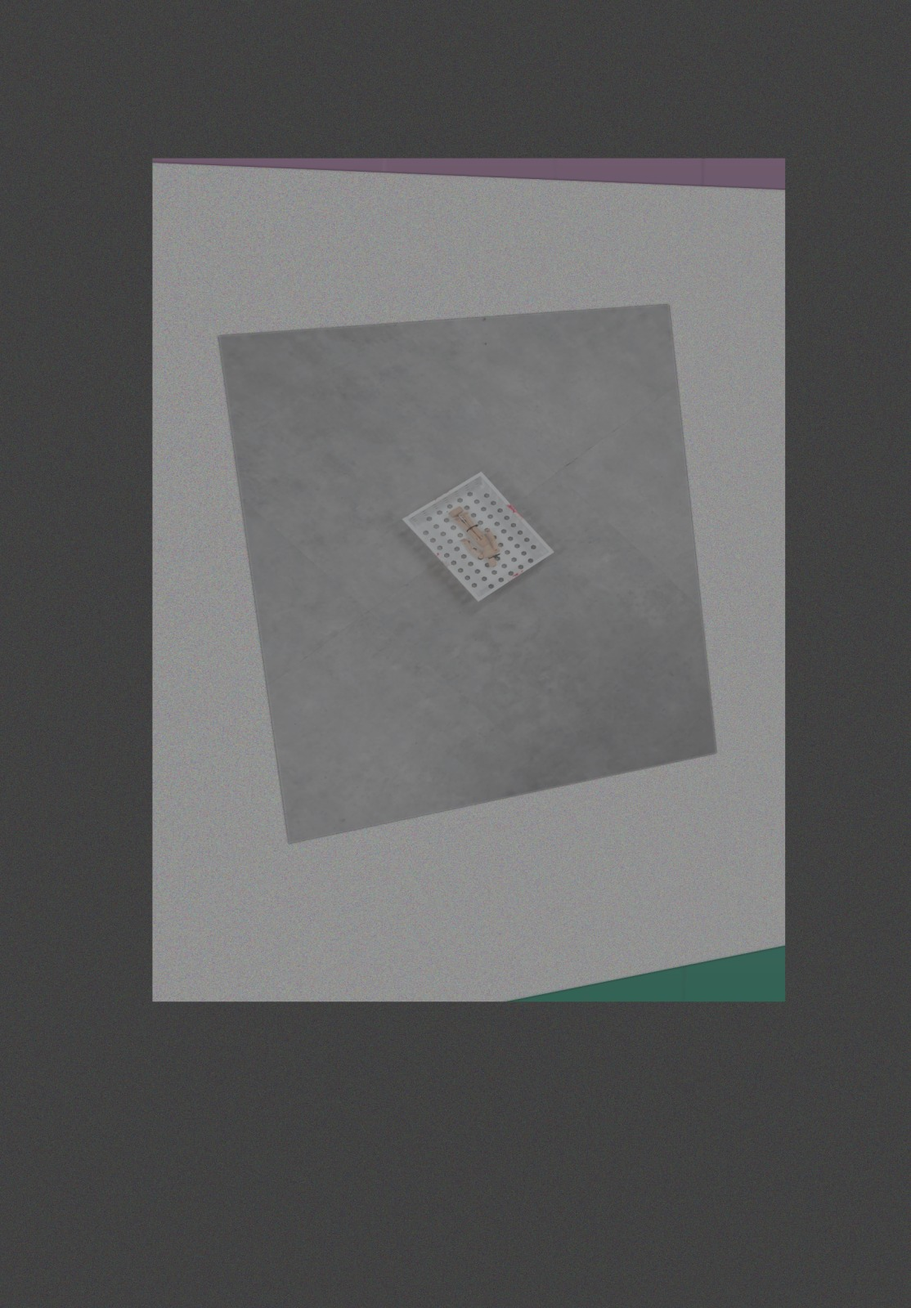basket: (398, 467, 559, 607)
mannequin: (447, 504, 503, 570)
